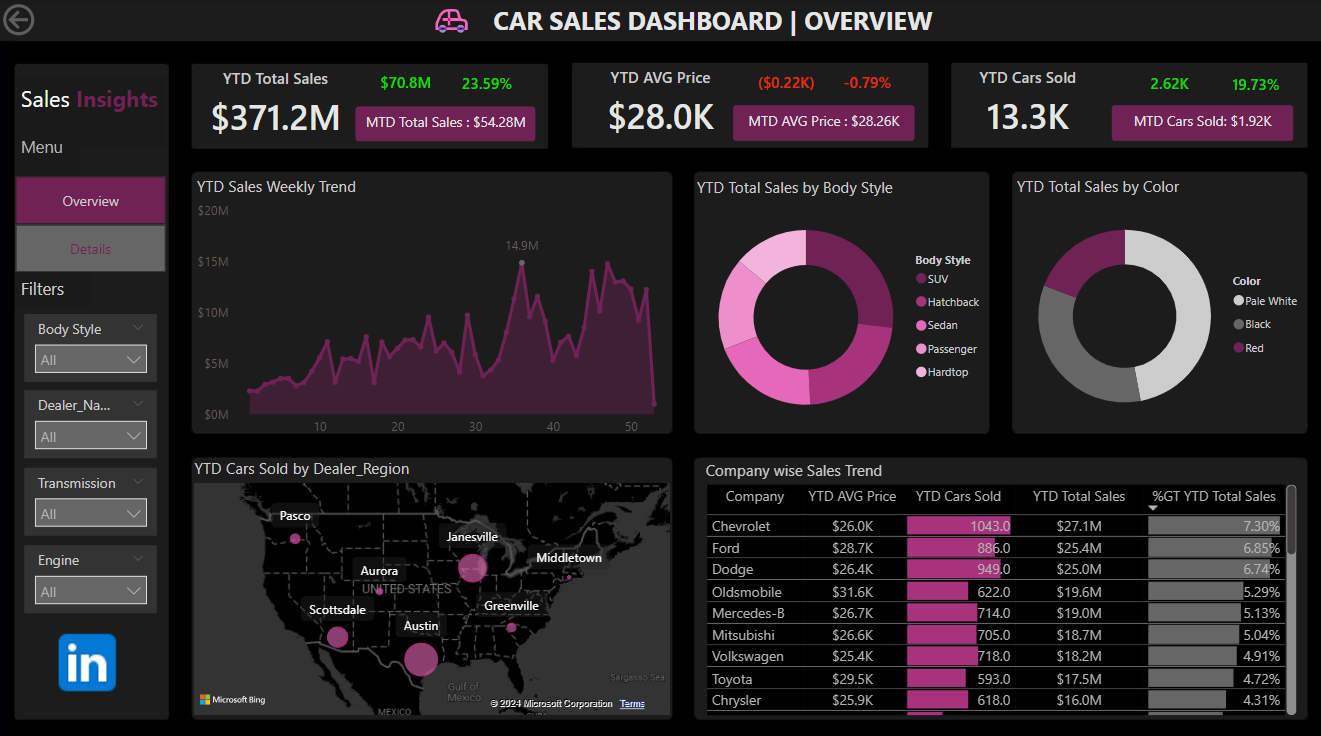

The page's visual inventory and layout, read from the dashboard file:
{"tool":"powerbi","page":{"name":"Overview","canvas":[1280,720],"ordinal":0},"visuals":[{"type":"card","title":"YTD Total Sales","fields":{"Values":["car_data.YTD Total Sales"]},"box":[183.4,66.4,168.9,76],"z":0},{"type":"card","fields":{"Values":["car_data.Sales Difference"]},"box":[359.5,61.5,68.8,42.2],"z":1000},{"type":"card","fields":{"Values":["car_data.YOY Sales Growth"]},"box":[437.9,62.7,68.8,42.2],"z":2000},{"type":"card","fields":{"Values":["car_data.MID KPI"]},"box":[345,103.8,173.7,33.8],"z":3000},{"type":"card","title":"YTD AVG Price","fields":{"Values":["car_data.YTD AVG Price"]},"box":[555,65.1,168.9,76],"z":4000},{"type":"card","fields":{"Values":["car_data.AVG Price Diff"]},"box":[726.3,61.6,68.9,41.9],"z":5000},{"type":"card","fields":{"Values":["car_data.YoY AVG Price Growth"]},"box":[805.1,61.6,68.9,41.9],"z":6000},{"type":"card","fields":{"Values":["car_data.MID AVG Price KPI"]},"box":[709.1,102.2,174.8,34.5],"z":7000},{"type":"card","title":"YTD Cars Sold","fields":{"Values":["car_data.YTD Cars Sold"]},"box":[909.7,65.2,168.6,76.3],"z":8000},{"type":"card","fields":{"Values":["car_data.Cars Sold Diff"]},"box":[1096.8,62.8,68.9,41.9],"z":9000},{"type":"card","fields":{"Values":["car_data.YoY Car Sold Growth"]},"box":[1179.3,64,68.9,41.9],"z":10000},{"type":"card","fields":{"Values":["car_data.MTD Cars Sold KPI"]},"box":[1074.7,102.2,174.8,34.5],"z":11000},{"type":"areaChart","title":"YTD Sales Weekly Trend","fields":{"Category":["Calendar Table.Week"],"Y":["Sum(car_data.Price ($))","car_data.Max Point"]},"box":[187.1,169.9,469,261],"z":12000},{"type":"donutChart","fields":{"Category":["car_data.Body Style"],"Y":["car_data.YTD Total Sales"]},"box":[669.7,171.1,291.7,252.4],"z":13000},{"type":"donutChart","fields":{"Y":["car_data.YTD Total Sales"],"Category":["car_data.Color"]},"box":[978.7,169.9,289.3,252.4],"z":14000},{"type":"map","fields":{"Size":["car_data.YTD Cars Sold"],"Category":["car_data.Dealer_Region"]},"box":[184.6,442.8,469.3,253.4],"z":15000},{"type":"tableEx","title":"Company wise Sales Trend","fields":{"Values":["car_data.Company","car_data.YTD AVG Price","car_data.YTD Cars Sold","car_data.YTD Total Sales1","car_data.YTD Total Sales"]},"box":[678.3,444.4,579.8,252.4],"z":16000},{"type":"actionButton","box":[0,0,100,40],"z":17000},{"type":"textbox","box":[472.7,0,445.6,41.9],"z":18000},{"type":"slicer","fields":{"Values":["car_data.Body Style"]},"box":[25.9,304.1,128,65.2],"z":19000},{"type":"slicer","fields":{"Values":["car_data.Dealer_Name"]},"box":[25.9,377.9,128,65.2],"z":20000},{"type":"slicer","fields":{"Values":["car_data.Transmission"]},"box":[25.9,453,128,65.2],"z":21000},{"type":"slicer","fields":{"Values":["car_data.Engine"]},"box":[25.9,526.9,128,65.2],"z":22000},{"type":"textbox","box":[17.2,263.4,72.6,33.2],"z":23000},{"type":"textbox","box":[17.2,76.3,145.3,67.7],"z":24000},{"type":"textbox","box":[17.2,126.8,62.8,44.3],"z":25000},{"type":"pageNavigator","box":[17.2,171.1,145.3,92.3],"z":26000},{"type":"image","box":[414.9,0,45.5,40.6],"z":27000},{"type":"image","box":[44.3,597,83.7,86.2],"z":28000}]}

Visuals, with their boxes in screenshot pixels (x1, y1, x2, y2), scaled from the page's 1280x720 canvas onto the 1321x736 screenshot:
"YTD Total Sales" card: 189 68 364 146
card - car_data.Sales Difference: 371 63 442 106
card - car_data.YOY Sales Growth: 452 64 523 107
card - car_data.MID KPI: 356 106 535 141
"YTD AVG Price" card: 573 67 747 144
card - car_data.AVG Price Diff: 750 63 821 106
card - car_data.YoY AVG Price Growth: 831 63 902 106
card - car_data.MID AVG Price KPI: 732 104 912 140
"YTD Cars Sold" card: 939 67 1113 145
card - car_data.Cars Sold Diff: 1132 64 1203 107
card - car_data.YoY Car Sold Growth: 1217 65 1288 108
card - car_data.MTD Cars Sold KPI: 1109 104 1290 140
"YTD Sales Weekly Trend" areaChart: 193 174 677 440
donutChart - car_data.Body Style x car_data.YTD Total Sales: 691 175 992 433
donutChart - car_data.YTD Total Sales x car_data.Color: 1010 174 1309 432
map - car_data.YTD Cars Sold x car_data.Dealer_Region: 191 453 675 712
"Company wise Sales Trend" tableEx: 700 454 1298 712
actionButton: 0 0 103 41
textbox: 488 0 948 43
slicer - car_data.Body Style: 27 311 159 378
slicer - car_data.Dealer_Name: 27 386 159 453
slicer - car_data.Transmission: 27 463 159 530
slicer - car_data.Engine: 27 539 159 605
textbox: 18 269 93 303
textbox: 18 78 168 147
textbox: 18 130 83 175
pageNavigator: 18 175 168 269
image: 428 0 475 42
image: 46 610 132 698
